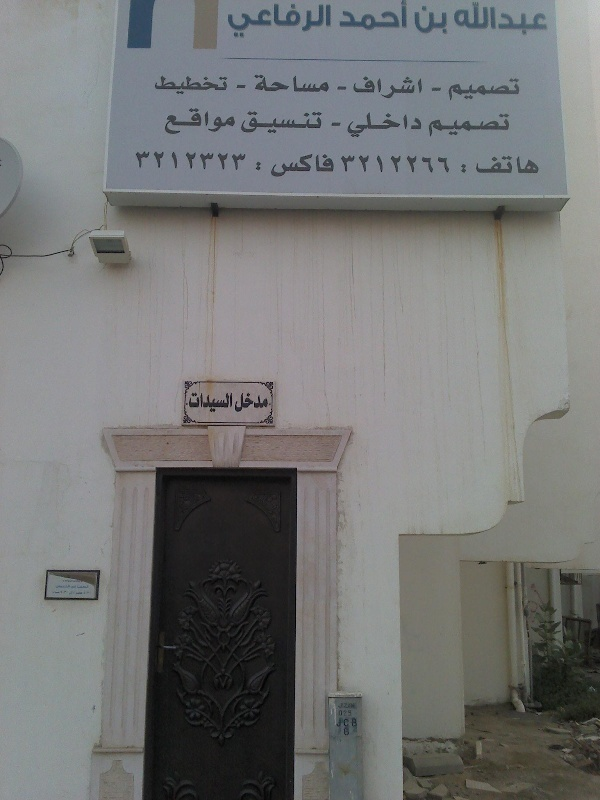text: (241, 3, 256, 39), (257, 3, 272, 39), (273, 3, 288, 39), (289, 3, 304, 39), (305, 3, 320, 39), (465, 1, 480, 37), (481, 1, 496, 37), (497, 1, 512, 37), (513, 1, 528, 37), (529, 1, 544, 37), (433, 4, 449, 36), (417, 4, 432, 36), (353, 1, 368, 33), (369, 1, 384, 33), (385, 1, 400, 33), (227, 3, 240, 39), (321, 3, 333, 39), (339, 1, 352, 33), (449, 75, 464, 102), (465, 75, 480, 102), (481, 75, 496, 102), (497, 75, 512, 102), (177, 108, 192, 135), (193, 108, 208, 135), (209, 108, 224, 135), (353, 112, 368, 138), (369, 112, 384, 138), (385, 112, 400, 138), (401, 112, 416, 138), (241, 111, 256, 136), (257, 111, 272, 136), (273, 111, 288, 136), (289, 111, 304, 136), (305, 111, 320, 136), (454, 1, 464, 37), (433, 113, 448, 137), (449, 113, 464, 137), (465, 113, 480, 137), (481, 113, 496, 137), (273, 154, 288, 178), (289, 154, 304, 178), (305, 154, 320, 178), (353, 76, 368, 99), (369, 76, 384, 99), (385, 76, 400, 99), (401, 76, 416, 99), (497, 113, 511, 137), (257, 73, 272, 95), (273, 73, 288, 95), (289, 73, 304, 95), (305, 73, 320, 95), (145, 150, 160, 171), (161, 150, 176, 171), (177, 150, 192, 171), (193, 150, 208, 171), (209, 150, 224, 171), (225, 150, 240, 171), (161, 74, 176, 95), (177, 74, 192, 95), (193, 74, 208, 95), (209, 74, 224, 95), (241, 393, 256, 414), (193, 392, 208, 413), (209, 392, 224, 413), (321, 154, 334, 178), (481, 155, 496, 175), (497, 155, 512, 175), (513, 155, 528, 175), (225, 108, 236, 135), (353, 155, 368, 174), (369, 155, 384, 174), (385, 155, 400, 174), (401, 155, 416, 174), (417, 155, 432, 174), (433, 155, 448, 174), (166, 108, 176, 135), (401, 1, 409, 33), (257, 393, 269, 414), (340, 155, 352, 174), (529, 155, 540, 175), (513, 75, 521, 102), (134, 150, 144, 171), (321, 73, 330, 95), (225, 392, 234, 413), (257, 159, 272, 171), (545, 1, 549, 37), (417, 76, 423, 99), (337, 718, 352, 727), (347, 112, 352, 138), (417, 112, 422, 138), (241, 150, 247, 171), (234, 393, 240, 414), (155, 74, 160, 95), (337, 710, 352, 717), (428, 113, 432, 137), (65, 584, 80, 590), (337, 84, 348, 92), (225, 74, 229, 95), (188, 392, 192, 413), (476, 155, 480, 175), (65, 590, 80, 595), (344, 727, 352, 736), (338, 703, 352, 708), (51, 590, 64, 595), (414, 4, 416, 36), (65, 579, 81, 583), (433, 86, 442, 93), (54, 584, 64, 590), (81, 584, 90, 590), (270, 154, 272, 178), (241, 83, 247, 91), (81, 590, 90, 595), (353, 718, 358, 727), (254, 73, 256, 95), (330, 121, 336, 128), (449, 155, 451, 174), (337, 121, 342, 128), (236, 83, 240, 91), (461, 164, 464, 174), (321, 111, 322, 136), (465, 164, 467, 174), (353, 703, 356, 708), (335, 718, 336, 727), (62, 579, 64, 583), (431, 86, 432, 93)
